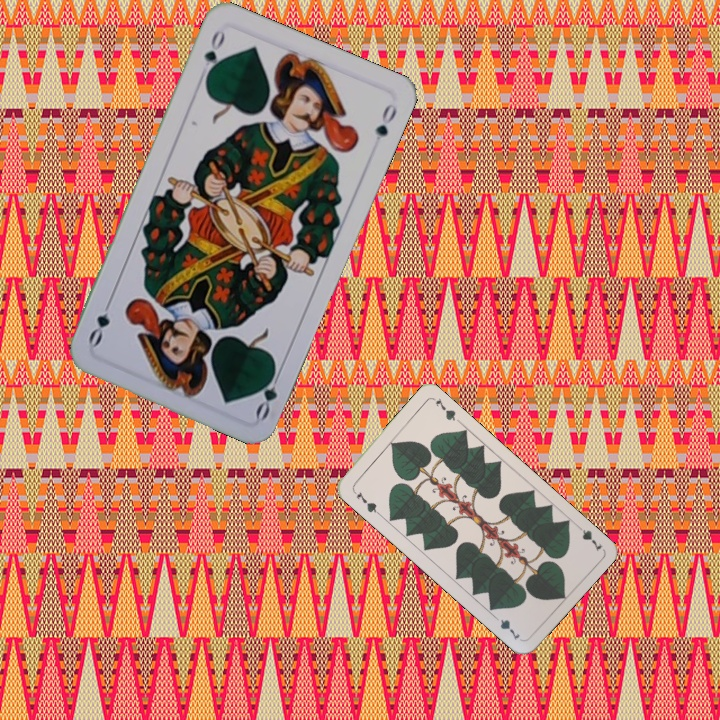G7: (571, 520, 605, 554), (349, 486, 382, 517)
GO: (251, 363, 285, 422), (195, 26, 228, 83)
